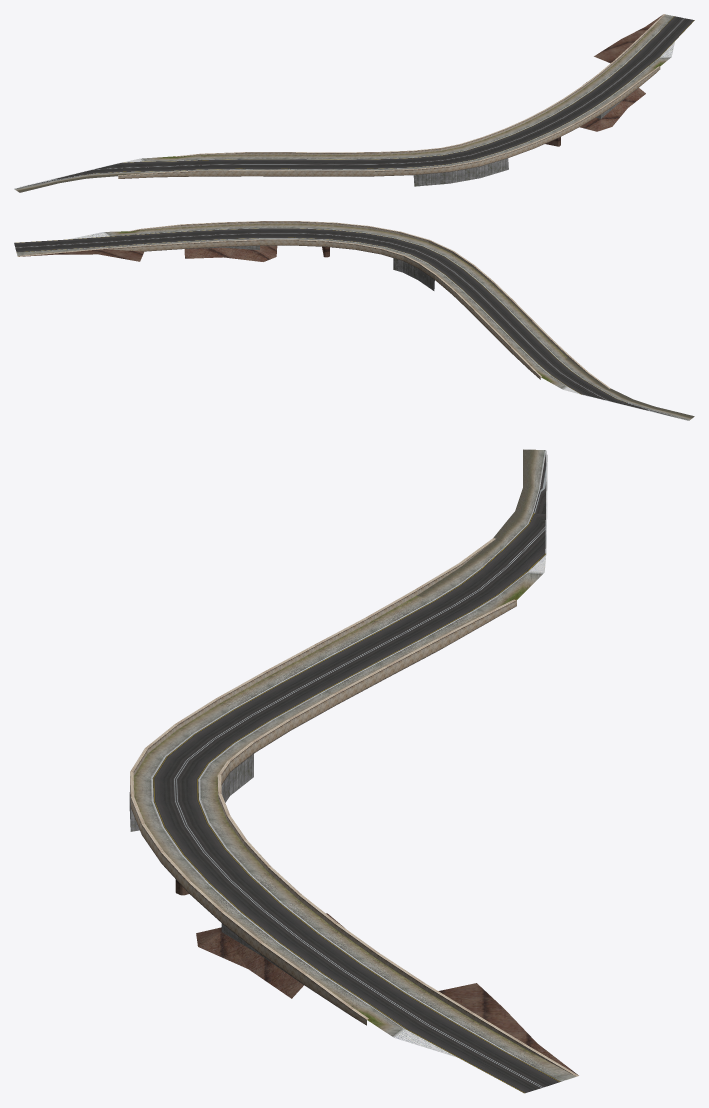
File: vegasnroad35.obj
3 renders of one model, top to bottom at view 1: azimuth 30°, elevation 25°; view 2: azimuth 150°, elevation 25°; view 3: azimuth 270°, elevation 25°, orthographic. The views are drawn at different scales.
Parts seen in each view (by area): view 1: vegasNroad35; view 2: vegasNroad35; view 3: vegasNroad35.
Boxes of the visible parts, x1=… form: vegasNroad35: x1=14, y1=14, x2=694, y2=192; vegasNroad35: x1=14, y1=221, x2=694, y2=420; vegasNroad35: x1=129, y1=449, x2=578, y2=1093.
Bounding box in the file's own units: 343 × 10.62 × 98.98.
11 materials, 11 textured.
